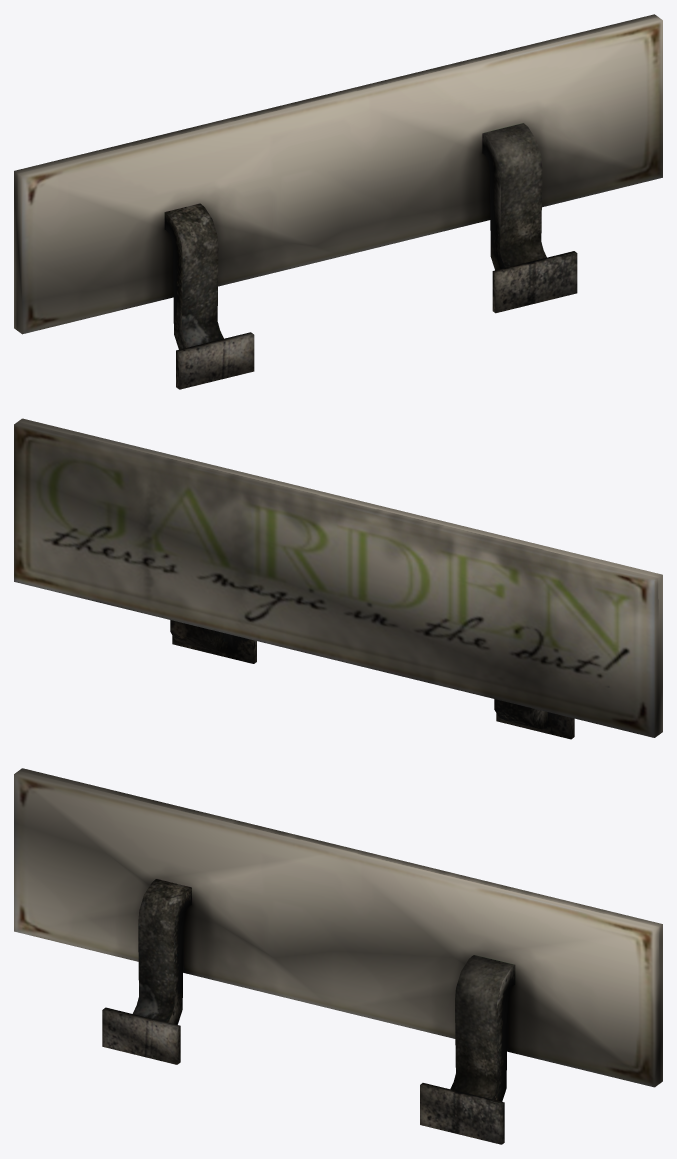
Rendered from Sign 2.fbx.
The picture shows the model from 3 angles, top to bottom: view 1: azimuth 30°, elevation 25°; view 2: azimuth 150°, elevation 25°; view 3: azimuth 330°, elevation 25°; orthographic projection.
Parts seen in each view (by area): view 1: Cube_001; view 2: Cube_001; view 3: Cube_001.
Boxes of the visible parts, box(x1,y1,x2,y2) form: Cube_001: box(14, 14, 662, 389); Cube_001: box(14, 418, 662, 739); Cube_001: box(14, 768, 662, 1144).
Size of the model in its own units: 3.99 by 1.31 by 0.4629.
